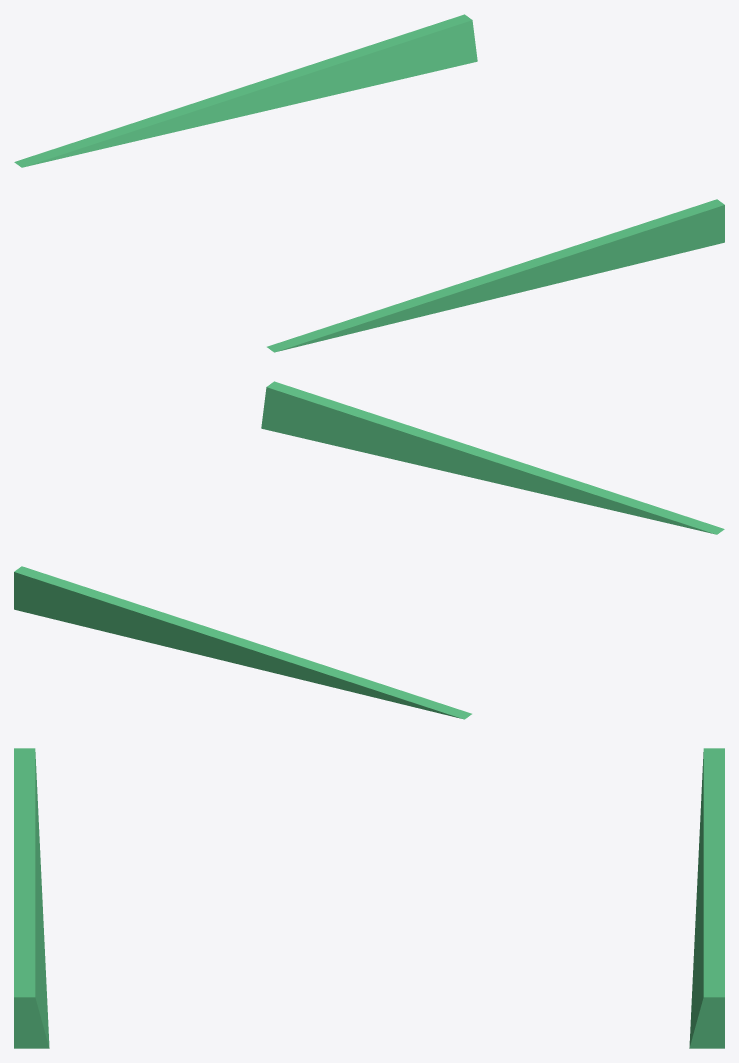
File: road_straight_barrier_end.glb
3 views of the same model, one above another, from view 1: azimuth 30°, elevation 25°; view 2: azimuth 150°, elevation 25°; view 3: azimuth 270°, elevation 25° (orthographic). The views are drawn at different scales.
Visible parts, largest first — view 1: road-straight-barrier-end; view 2: road-straight-barrier-end; view 3: road-straight-barrier-end.
Boxes of the visible parts, x1,y1,x2,y2 form: road-straight-barrier-end: [14, 14, 724, 352]; road-straight-barrier-end: [14, 381, 724, 719]; road-straight-barrier-end: [14, 748, 724, 1048].
Size of the model in its own units: 1 by 0.08 by 1.
Materials: 1 (1 with a texture image).
